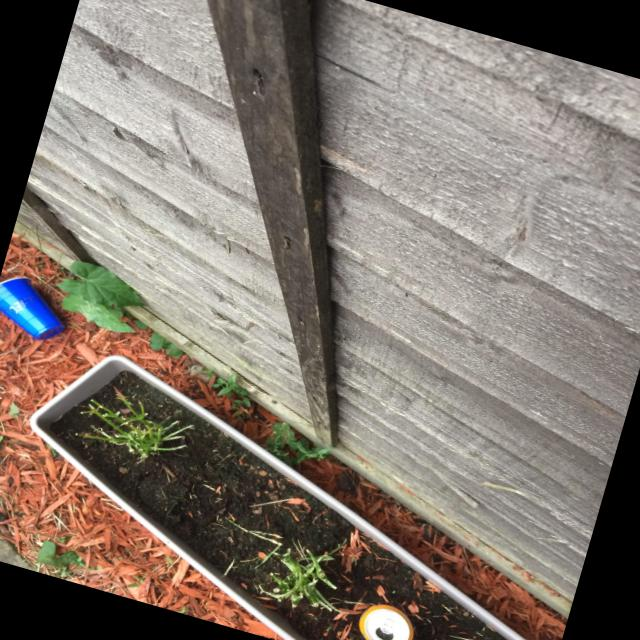less trash: (0, 277, 64, 340), (358, 604, 414, 640)
